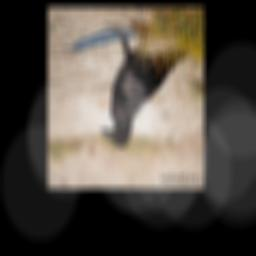Crow: (100, 22, 194, 148)
